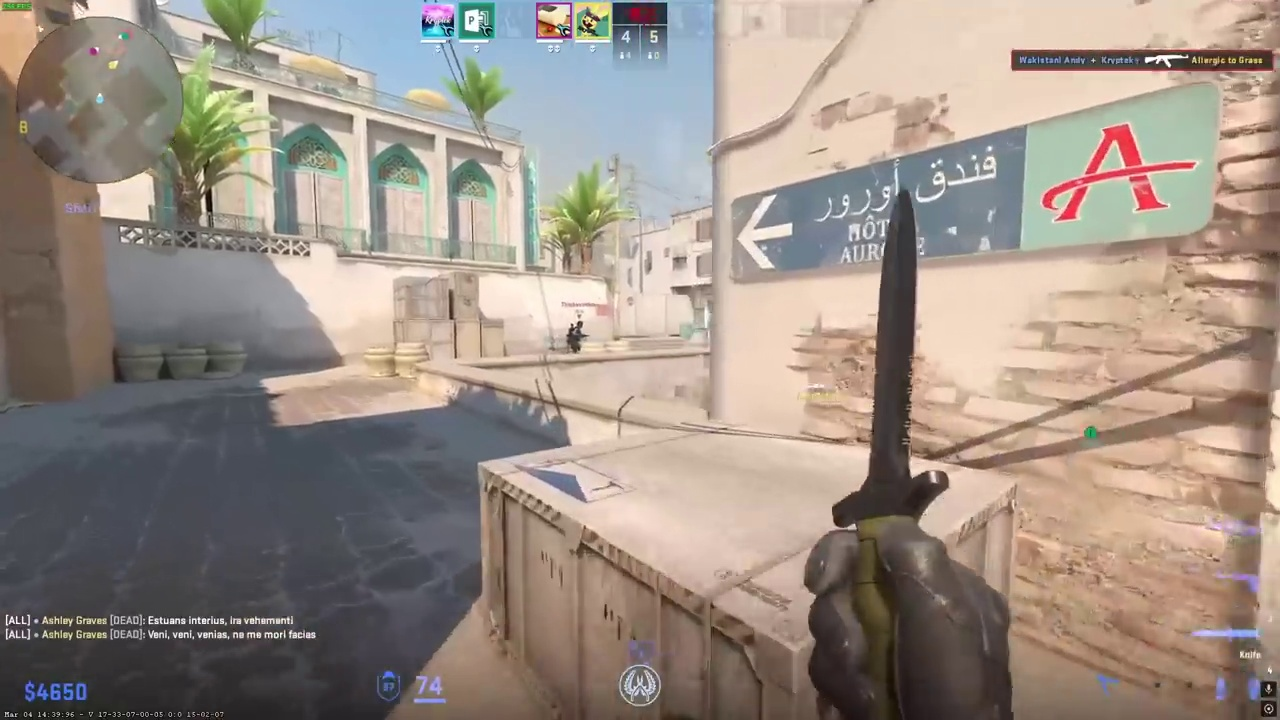CT: (567, 319, 583, 354)
